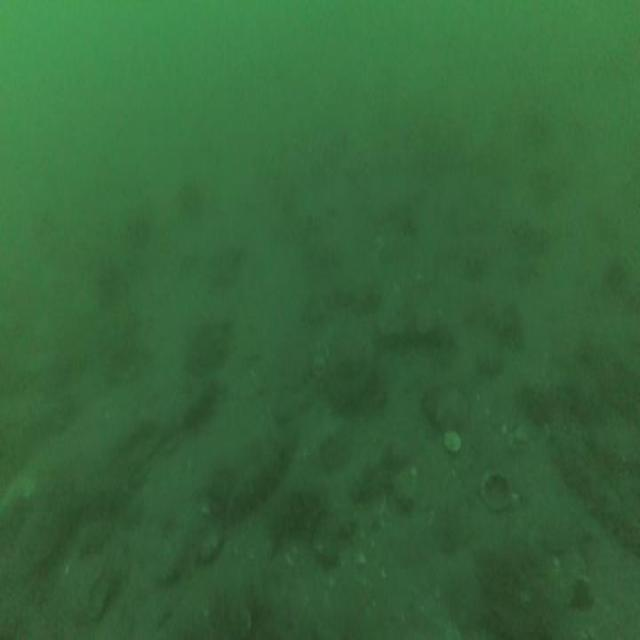holothurian: (554, 432, 640, 552), (225, 426, 291, 522), (270, 476, 326, 545)
